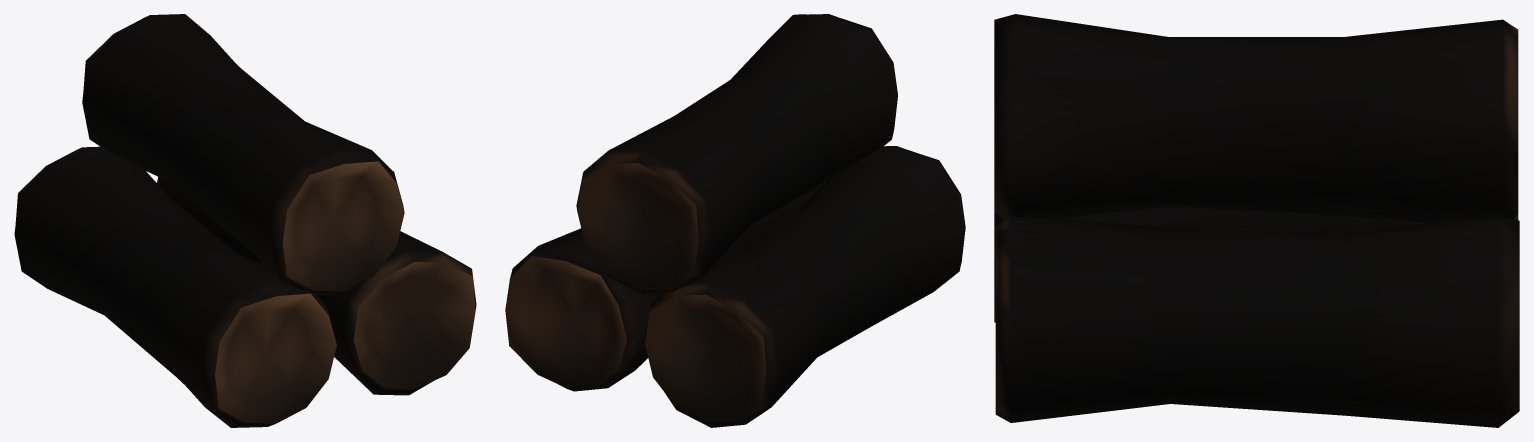
File: Logs.fbx
3 renders of one model, left to right at view 1: azimuth 30°, elevation 25°; view 2: azimuth 150°, elevation 25°; view 3: azimuth 270°, elevation 25°, orthographic. The views are drawn at different scales.
Visible parts, largest first — view 1: Logs_Normal; view 2: Logs_Normal; view 3: Logs_Normal.
Part boxes in pixels (x1,y1,x2,y2): Logs_Normal: (14,14,476,427); Logs_Normal: (505,14,965,427); Logs_Normal: (994,14,1519,427).
Size of the model in its own units: 29.81 by 27.24 by 37.67.
